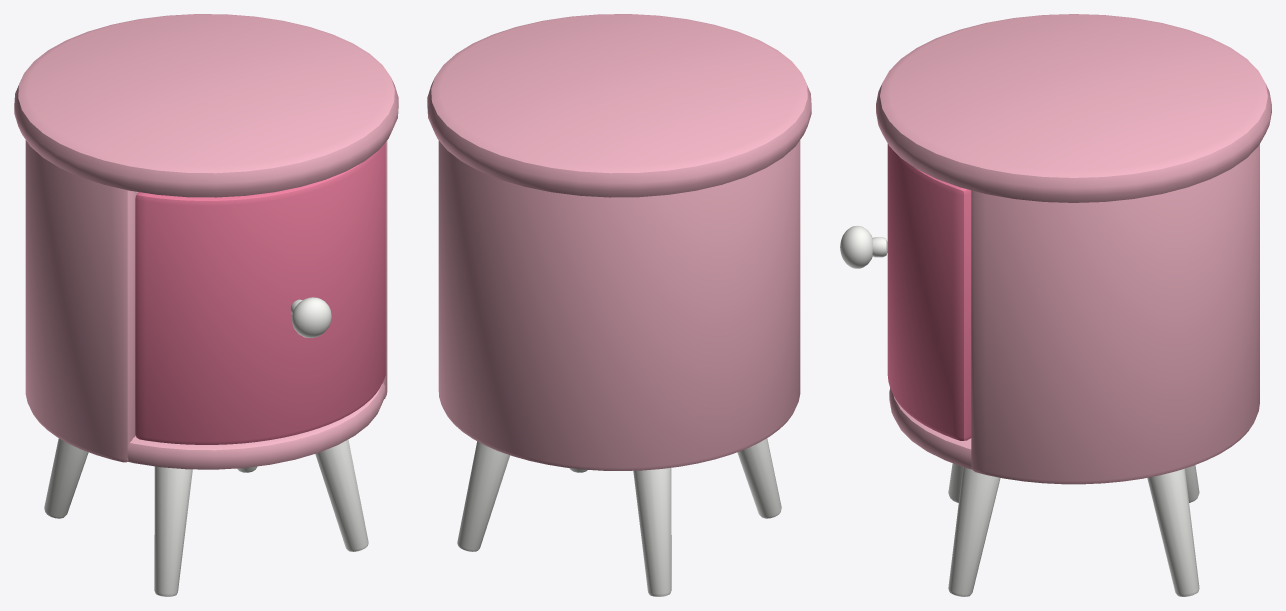
File: criado_cilindro_rosa.glb
3 renders of one model, left to right at view 1: azimuth 30°, elevation 25°; view 2: azimuth 150°, elevation 25°; view 3: azimuth 270°, elevation 25°, orthographic. The views are drawn at different scales.
Visible parts, largest first — view 1: criado_cilindro_rosa, porta_1; view 2: criado_cilindro_rosa; view 3: criado_cilindro_rosa, porta_1.
Part boxes in pixels (left/top/right/bottom): criado_cilindro_rosa: left=14, top=14, right=398, bottom=596; porta_1: left=135, top=142, right=385, bottom=444; criado_cilindro_rosa: left=427, top=14, right=811, bottom=596; criado_cilindro_rosa: left=876, top=14, right=1271, bottom=596; porta_1: left=840, top=144, right=971, bottom=440.
Size of the model in its own units: 0.468 by 0.5942 by 0.5104.
1 material, 1 textured.
